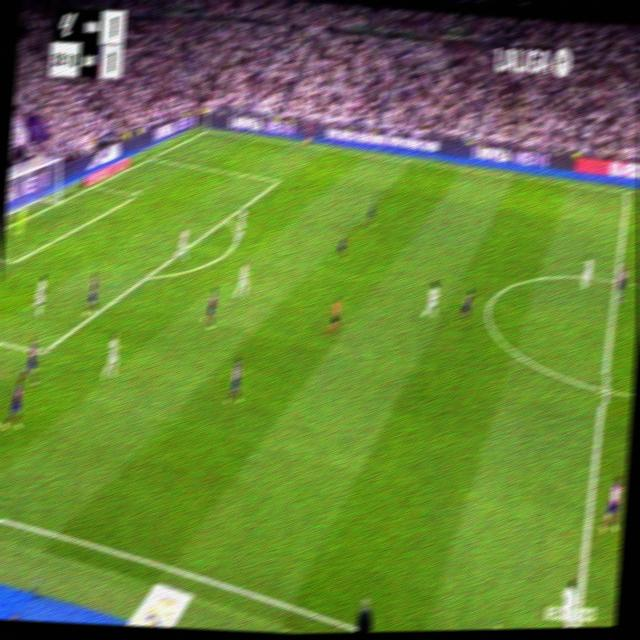bigarea_bottom_inner: (35, 339, 48, 363)
bigarea_top_inner: (272, 174, 281, 187)
bigarea_top_outter: (146, 151, 156, 163)
bottom_arc_area_intersection: (141, 264, 154, 285)
corner: (200, 123, 212, 134)
halfcircle_bottom: (596, 372, 612, 404)
midline_top_intersection: (621, 185, 634, 202)
smallarea_bottom_inner: (9, 252, 20, 269)
smallarea_top_inner: (131, 189, 140, 200)
top_arc_area_intersection: (221, 208, 231, 226)
